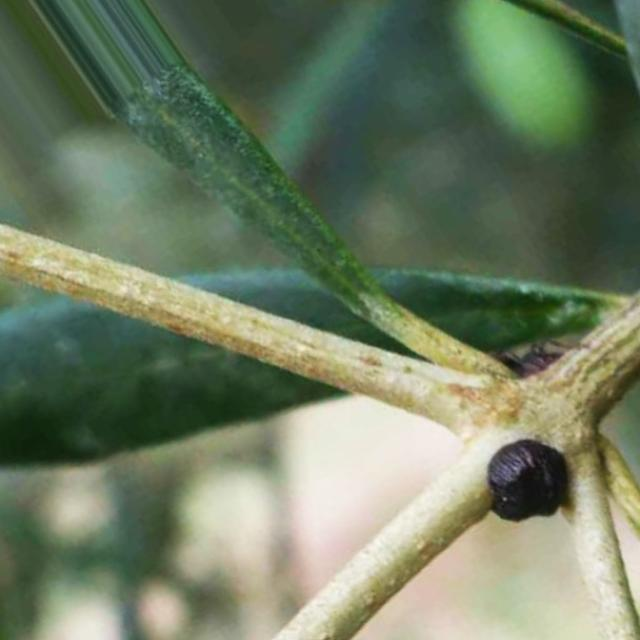Black Scale: (487, 439, 568, 521)
